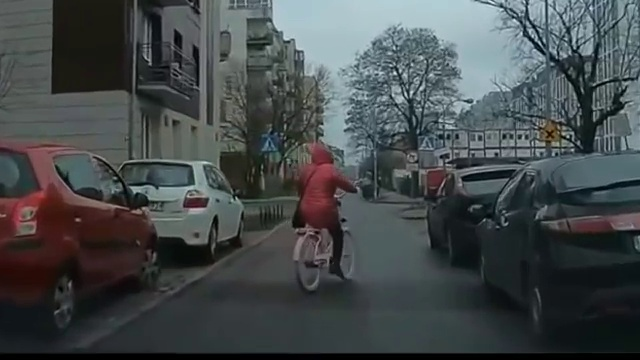cyclist_back: (287, 145, 363, 298)
